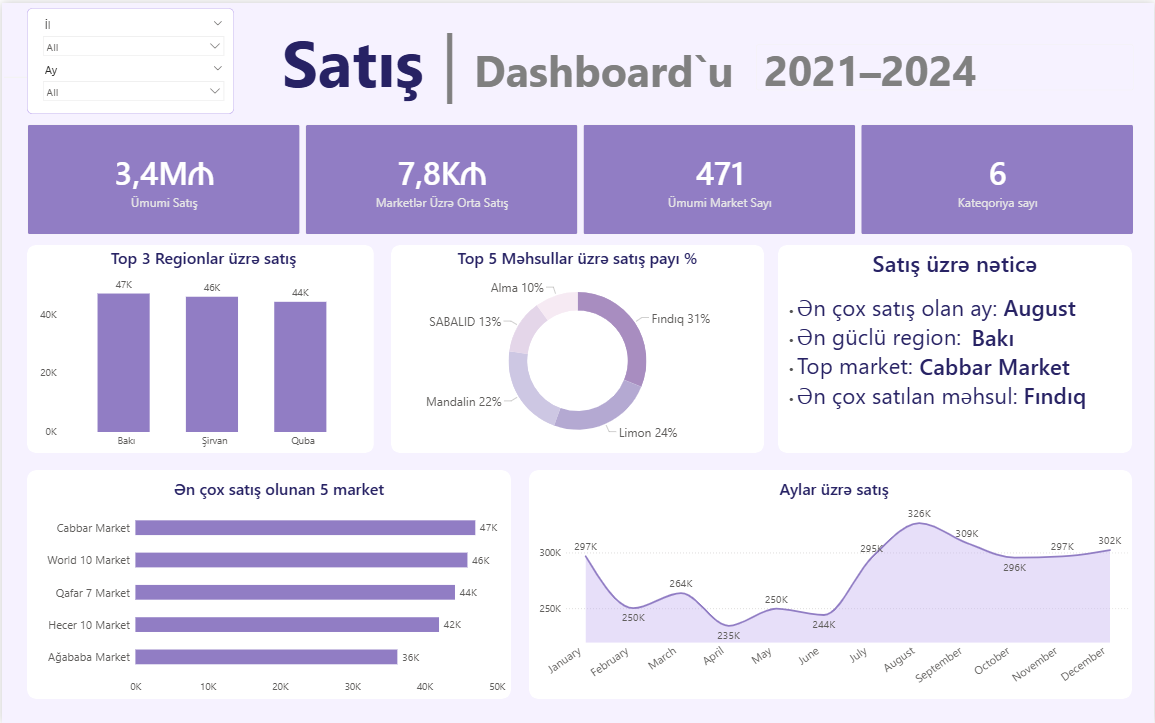

This screenshot's page, from the dashboard's own definition file:
{"tool":"powerbi","page":{"name":"Dashboard","canvas":[1920,1200],"ordinal":0},"visuals":[{"type":"shape","box":[878.3,778.3,1005,381.7],"z":0},{"type":"shape","box":[648.3,403.3,621.7,346.7],"z":1000},{"type":"shape","box":[41.7,778.3,806.7,381.7],"z":2000},{"type":"shape","box":[41.7,403.3,578.3,346.7],"z":3000},{"type":"shape","box":[3.2,113.2,324.1,21.2],"z":4000},{"type":"shape","box":[41.7,8.3,345,176.7],"z":5000},{"type":"cardVisual","fields":{"Data":["_Measures.Ümumi Satış","_Measures.Average Sales per Market","_Measures.Ümumi Market Sayı","_Measures.Məhsul sayı"]},"box":[25,185,1878.3,218.3],"z":6000},{"type":"slicer","fields":{"Values":["Satış.Tarix.Variation.Date Hierarchy.Year"]},"box":[58.3,18.3,321.7,73.3],"z":7000},{"type":"textbox","box":[461.7,8.3,978.3,190],"z":8000},{"type":"slicer","fields":{"Values":["Satış.Tarix.Variation.Date Hierarchy.Month"]},"box":[58.3,93.3,321.7,86.7],"z":9000},{"type":"columnChart","title":"Top 3 Regionlar üzrə satış","fields":{"Category":["Müştəri.Region"],"Y":["Sum(Satış.Satış)"]},"box":[58.3,406.7,555,343.3],"z":10000},{"type":"barChart","title":"Ən çox satış olunan 5 market","fields":{"Category":["Satış.Market adı"],"Y":["Sum(Satış.Satış)"]},"box":[58.3,791.7,806.7,368.3],"z":11000},{"type":"donutChart","title":"Top 5 Məhsullar üzrə satış payı %","fields":{"Category":["Satış.Məhsul"],"Y":["Sum(Satış.Satış)"]},"box":[648.3,406.7,621.7,343.3],"z":12000},{"type":"lineChart","title":"Aylar üzrə satış ","fields":{"Y":["Sum(Satış.Satış)"],"Category":["Satış.Tarix.Variation.Date Hierarchy.Month"]},"box":[890,791.7,993.3,368.3],"z":13000},{"type":"cardVisual","fields":{"Data":["_Measures.Selected Years Title"]},"box":[1240,51.7,663.3,111.7],"z":14000},{"type":"shape","box":[1293.3,403.3,590,346.7],"z":15000},{"type":"textbox","box":[1306.7,425,576.7,325],"z":16000},{"type":"cardVisual","fields":{"Data":["_Measures.Ən çox satış olan ay"]},"box":[1639.7,459.2,280.3,88.1],"z":16001},{"type":"cardVisual","fields":{"Data":["_Measures.Ən güclü region"]},"box":[1586.7,509.6,279.8,88.5],"z":16002},{"type":"cardVisual","fields":{"Data":["_Measures.Top Market"]},"box":[1500,558,366,88],"z":16003},{"type":"cardVisual","fields":{"Data":["_Measures.Ən çox satılan məhsul"]},"box":[1673.2,606.4,246.8,88.5],"z":16004},{"type":"textbox","box":[1293.3,403.3,590,65],"z":16005}]}

Visuals, with their boxes in screenshot pixels (x1, y1, x2, y2), scaled from the page's 1920x1200 canvas onto the 1155x723 screenshot:
shape: BBox(528, 469, 1133, 699)
shape: BBox(390, 243, 764, 452)
shape: BBox(25, 469, 510, 699)
shape: BBox(25, 243, 373, 452)
shape: BBox(2, 68, 197, 81)
shape: BBox(25, 5, 233, 111)
cardVisual - _Measures.Ümumi Satış x _Measures.Average Sales per Market: BBox(15, 111, 1145, 243)
slicer - Satış.Tarix.Variation.Date Hierarchy.Year: BBox(35, 11, 229, 55)
textbox: BBox(278, 5, 866, 119)
slicer - Satış.Tarix.Variation.Date Hierarchy.Month: BBox(35, 56, 229, 108)
"Top 3 Regionlar üzrə satış" columnChart: BBox(35, 245, 369, 452)
"Ən çox satış olunan 5 market" barChart: BBox(35, 477, 520, 699)
"Top 5 Məhsullar üzrə satış payı %" donutChart: BBox(390, 245, 764, 452)
"Aylar üzrə satış " lineChart: BBox(535, 477, 1133, 699)
cardVisual - _Measures.Selected Years Title: BBox(746, 31, 1145, 98)
shape: BBox(778, 243, 1133, 452)
textbox: BBox(786, 256, 1133, 452)
cardVisual - _Measures.Ən çox satış olan ay: BBox(986, 277, 1154, 330)
cardVisual - _Measures.Ən güclü region: BBox(954, 307, 1123, 360)
cardVisual - _Measures.Top Market: BBox(902, 336, 1123, 389)
cardVisual - _Measures.Ən çox satılan məhsul: BBox(1007, 365, 1154, 419)
textbox: BBox(778, 243, 1133, 282)
